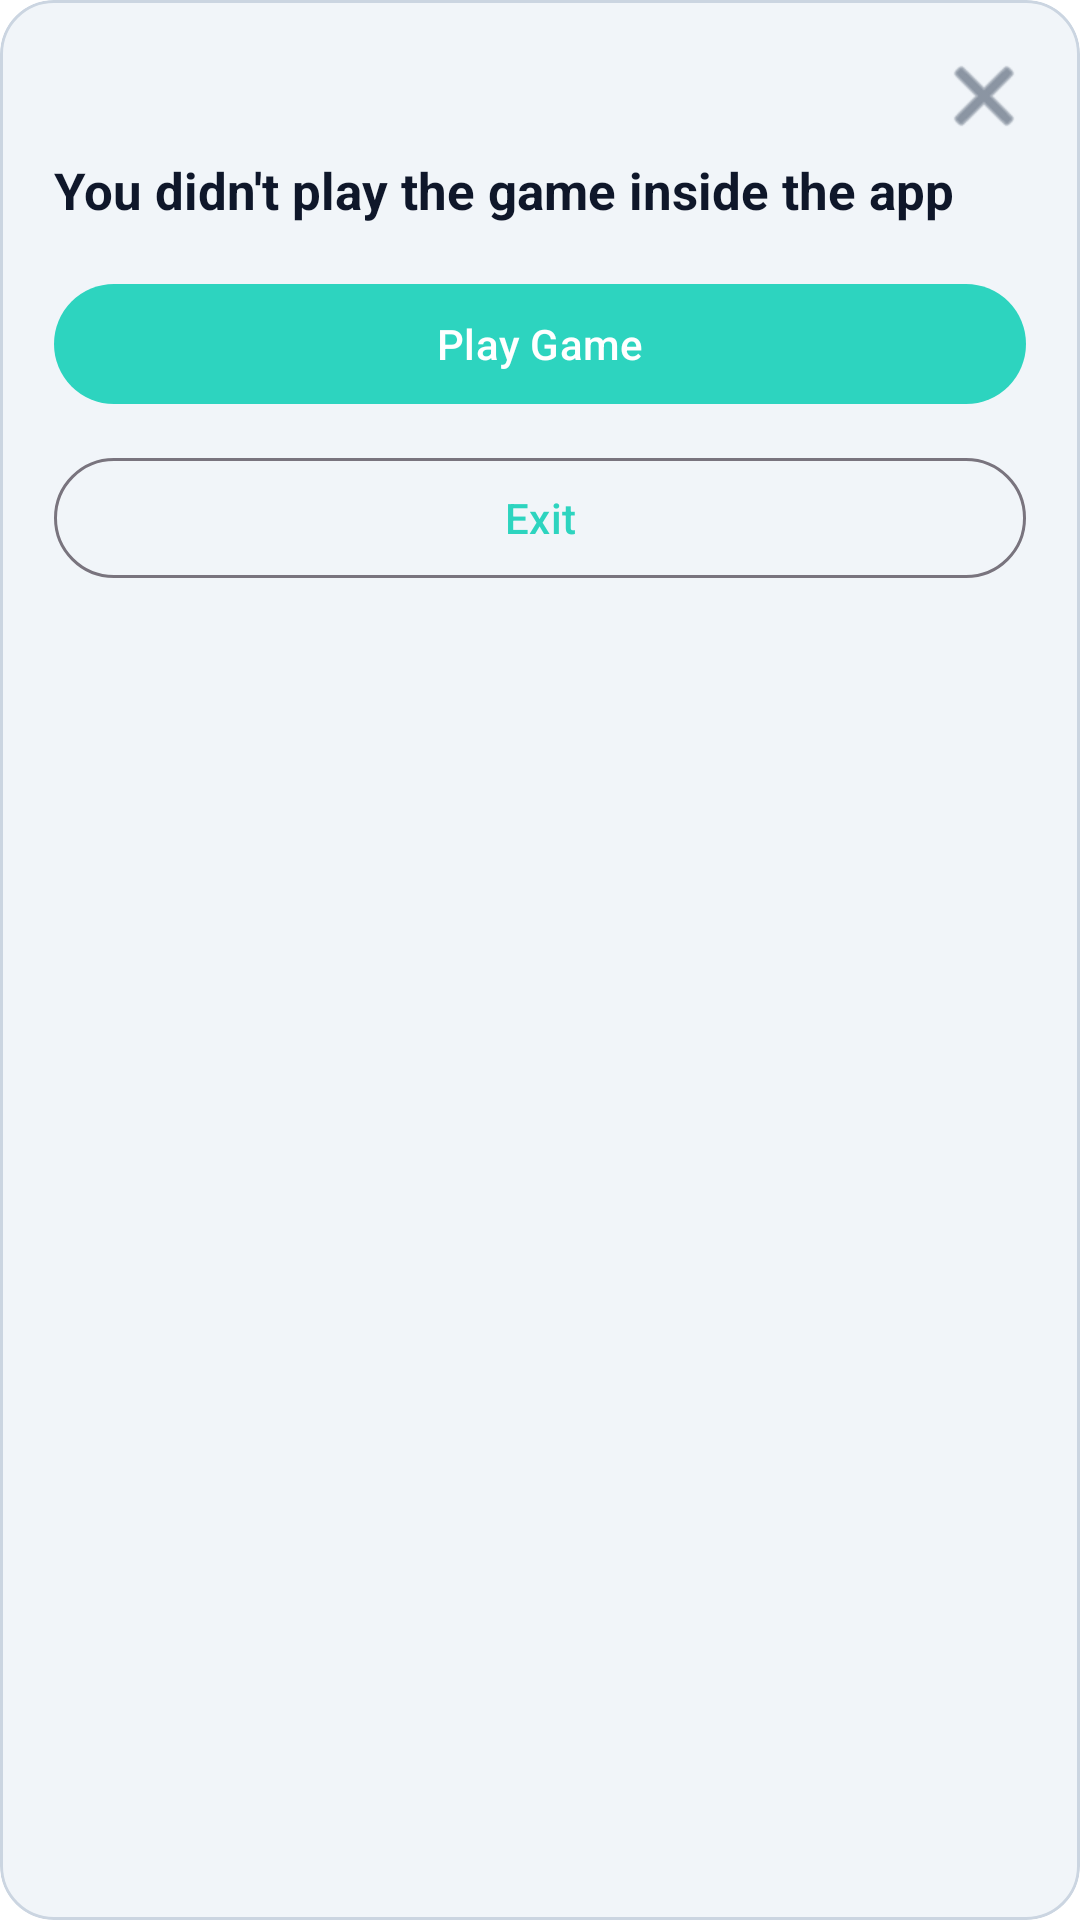

Icon bounding boxes for this 1080px x 1920px phone screenshot, format (x1, y1, x2, y2):
Close navigation: (954, 66, 1014, 126)
